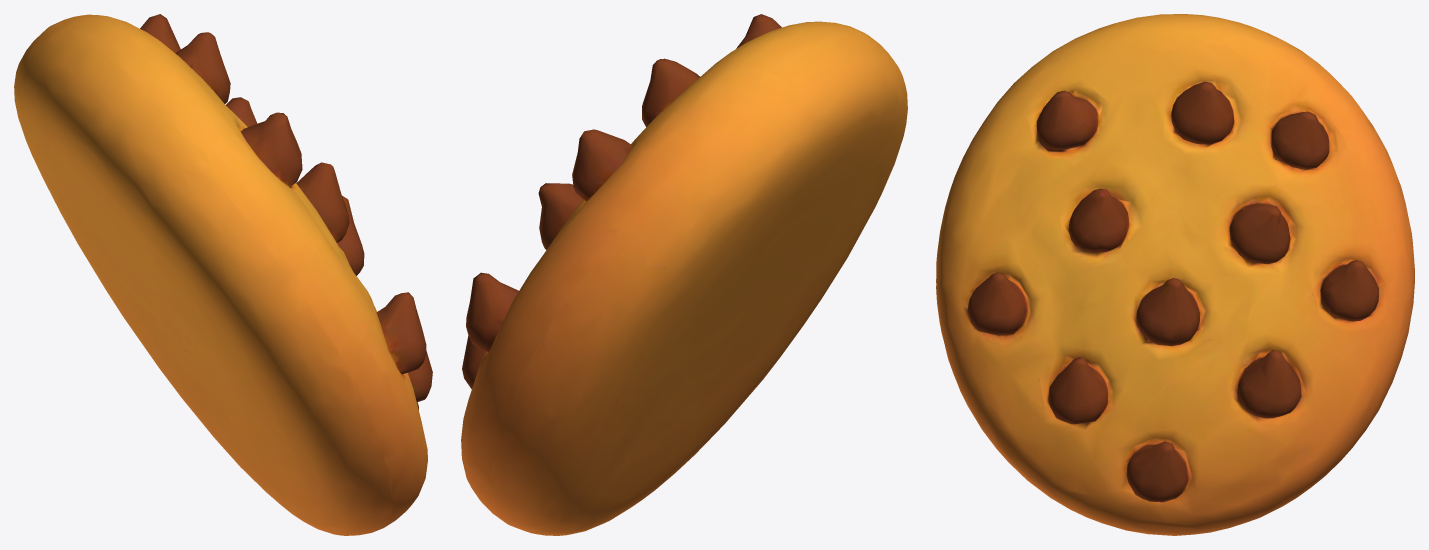
Rendered from food_cookie.glb.
3 renders of one model, left to right at view 1: azimuth 30°, elevation 25°; view 2: azimuth 150°, elevation 25°; view 3: azimuth 270°, elevation 25°, orthographic. The views are drawn at different scales.
Visible parts, largest first — view 1: tripo_node_3c723128-916d-4af5-b8a4-1d4e17981371; view 2: tripo_node_3c723128-916d-4af5-b8a4-1d4e17981371; view 3: tripo_node_3c723128-916d-4af5-b8a4-1d4e17981371.
Part boxes in pixels (bbox=[...]): tripo_node_3c723128-916d-4af5-b8a4-1d4e17981371: bbox=[14, 14, 432, 535]; tripo_node_3c723128-916d-4af5-b8a4-1d4e17981371: bbox=[461, 14, 907, 535]; tripo_node_3c723128-916d-4af5-b8a4-1d4e17981371: bbox=[936, 14, 1414, 535].
Bounding box in the file's own units: 0.6895 × 1 × 0.999.
1 material, 1 textured.
